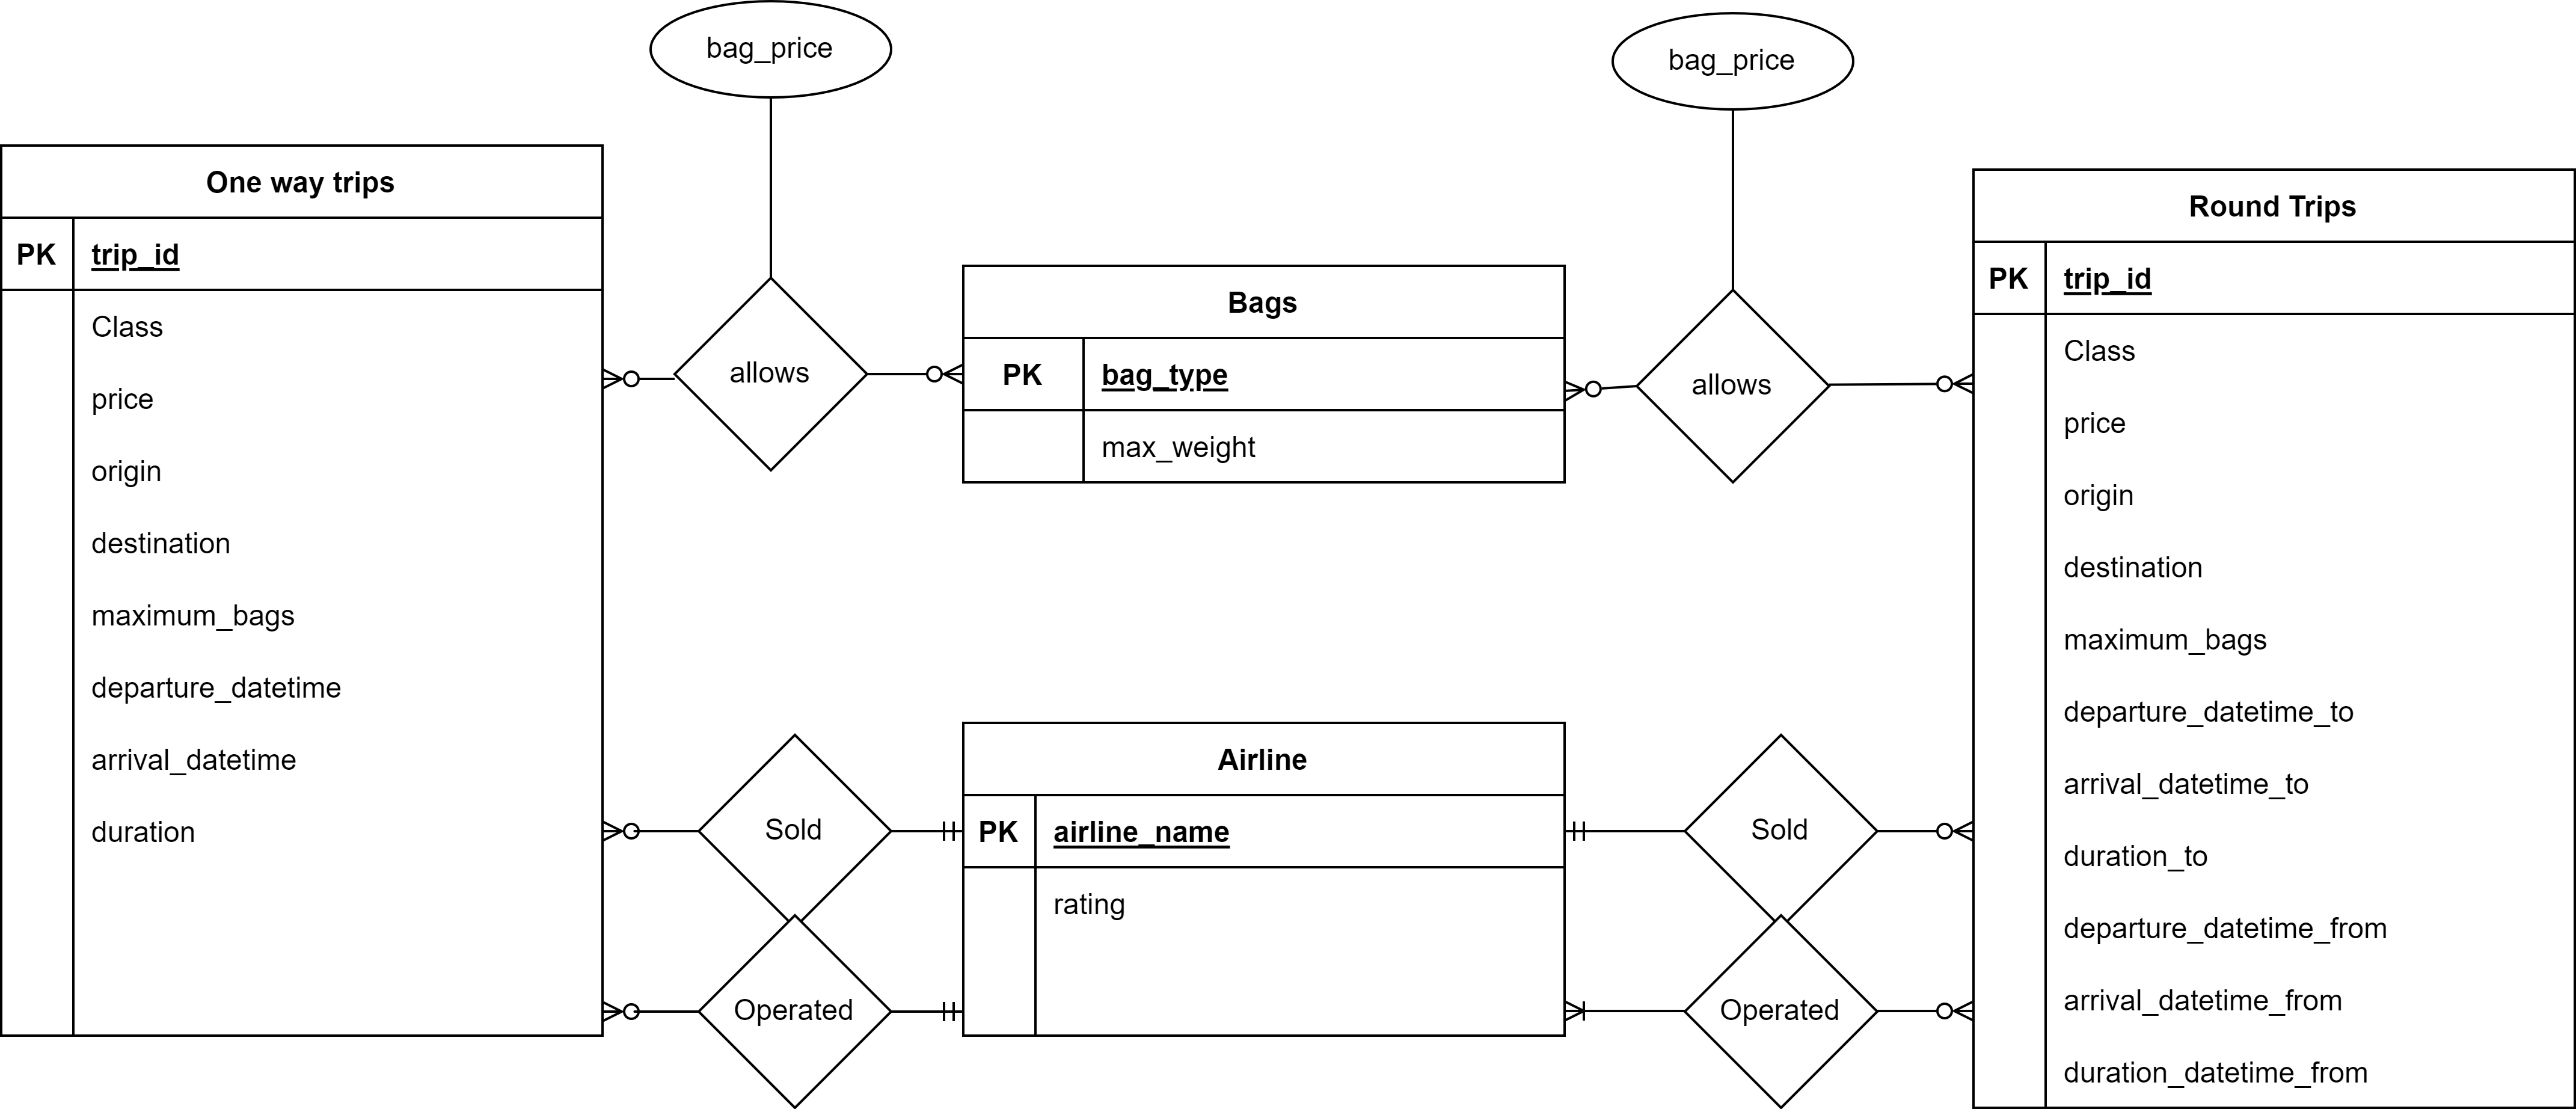entity: (1975, 171, 2576, 1109), (0, 146, 600, 1035), (961, 721, 1562, 1038), (963, 266, 1564, 483)
many: (598, 798, 665, 861), (596, 981, 660, 1042), (1904, 357, 1975, 409), (600, 350, 660, 411), (1914, 802, 1973, 859), (908, 348, 968, 403), (1559, 365, 1623, 414), (1561, 986, 1620, 1037), (1912, 986, 1973, 1035)
one: (1562, 807, 1610, 861), (920, 986, 964, 1030), (922, 808, 964, 854)
rel: (695, 734, 895, 933), (1635, 286, 1830, 485), (1684, 728, 1874, 930), (1681, 913, 1876, 1109), (675, 278, 869, 475), (701, 913, 887, 1109)
rel_attr: (1612, 12, 1858, 113), (649, 0, 892, 97)
